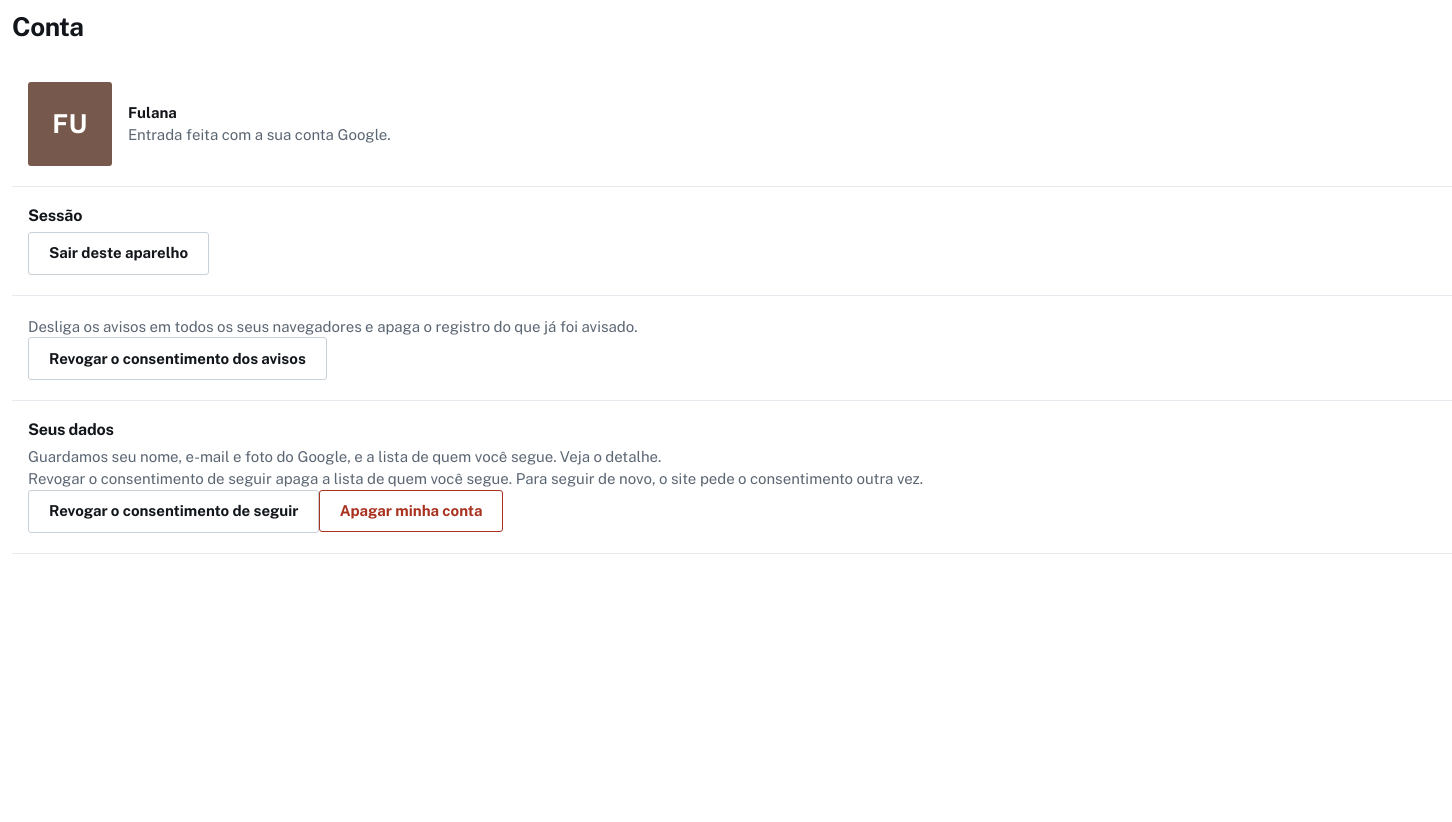
Test: minha conta › apagar pede confirmação, e cancelar volta atrás
Click the button "Apagar minha conta": (411, 511) [320, 490, 503, 532]
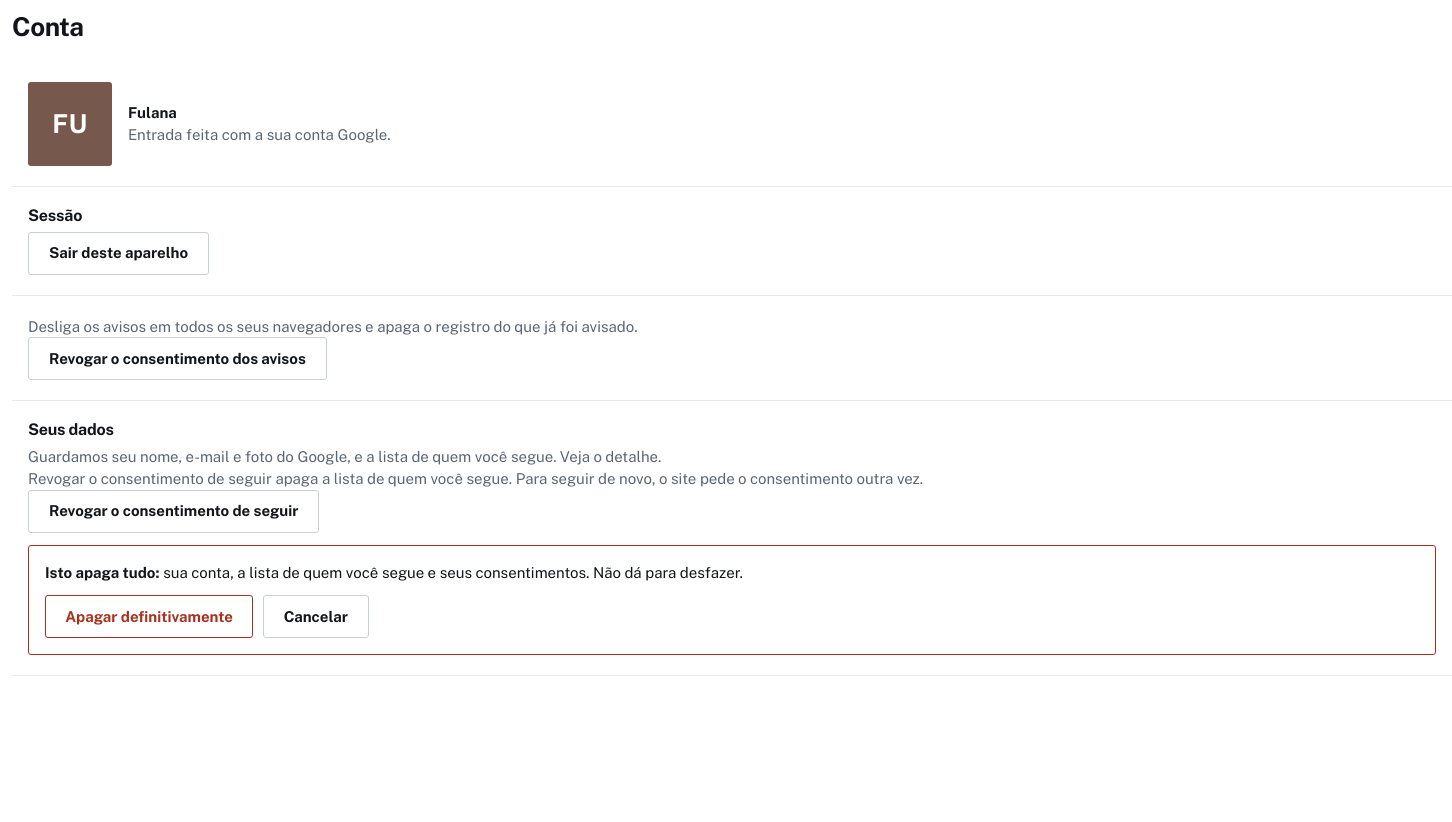
Click the button "Cancelar": (316, 617) [263, 595, 369, 638]
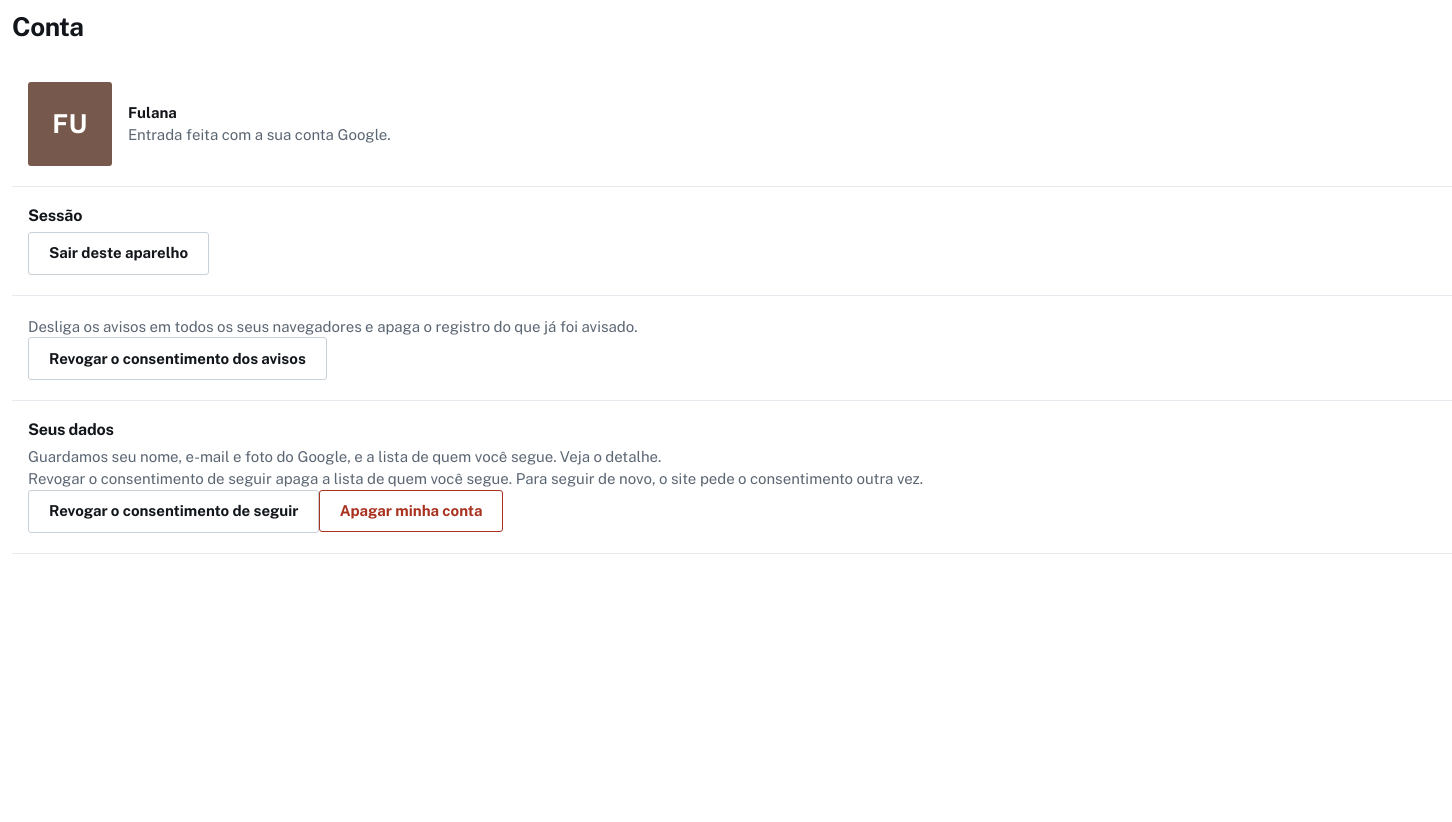
Now the button "Apagar minha conta" is shown, box [320, 490, 503, 532]
